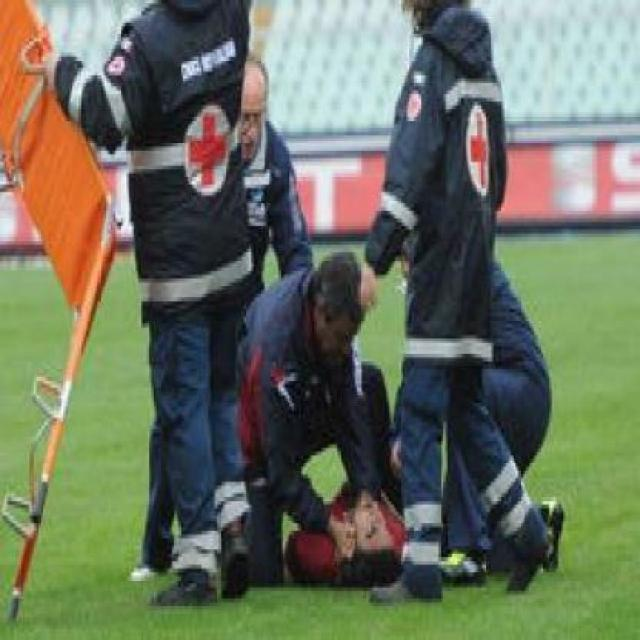fall: (274, 459, 409, 592)
